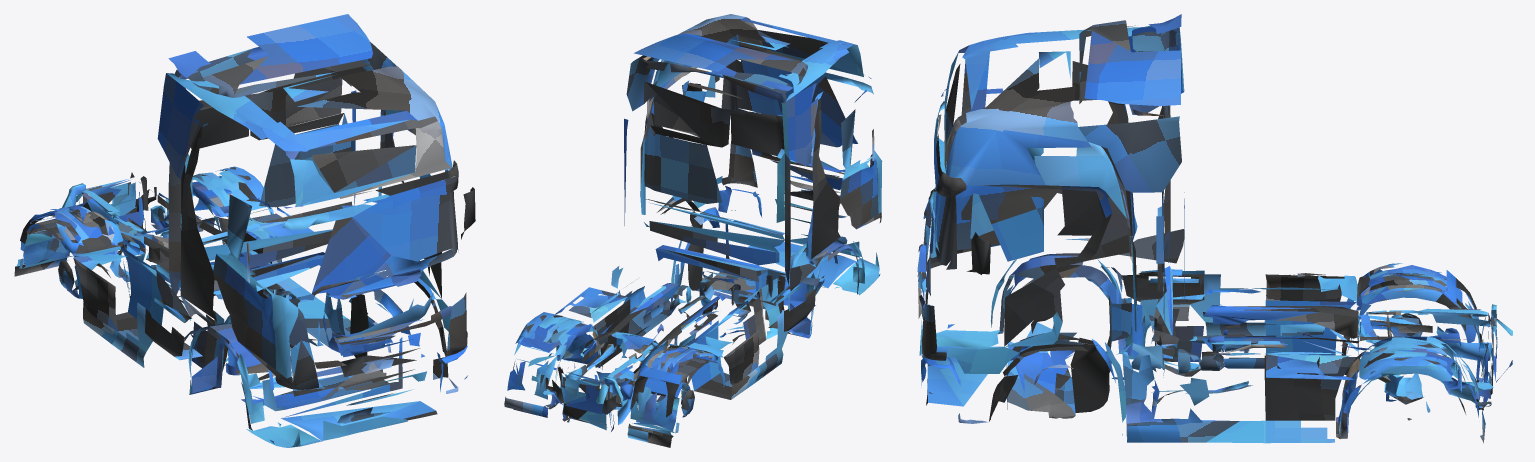
File: scandza_gc215_tractor_unit_16.obj
3 views of the same model, side by side, from view 1: azimuth 30°, elevation 25°; view 2: azimuth 150°, elevation 25°; view 3: azimuth 270°, elevation 25° (orthographic). The views are drawn at different scales.
Visible parts, largest first — view 1: body; view 2: body; view 3: body.
Part boxes in pixels (box(x1,y1,x2,y2)): body: box(14, 14, 475, 447); body: box(504, 14, 882, 447); body: box(917, 14, 1512, 443).
Bounding box in the file's own units: 2.4 × 3.07 × 4.83.
